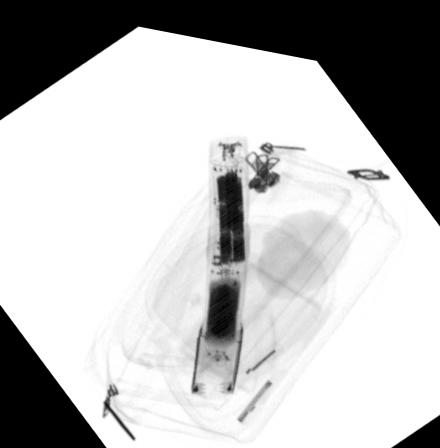Baton: (187, 123, 250, 388)
